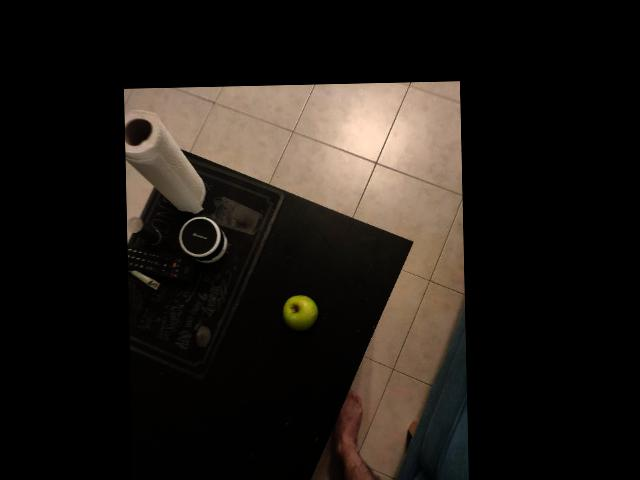apple: (334, 226, 380, 274)
